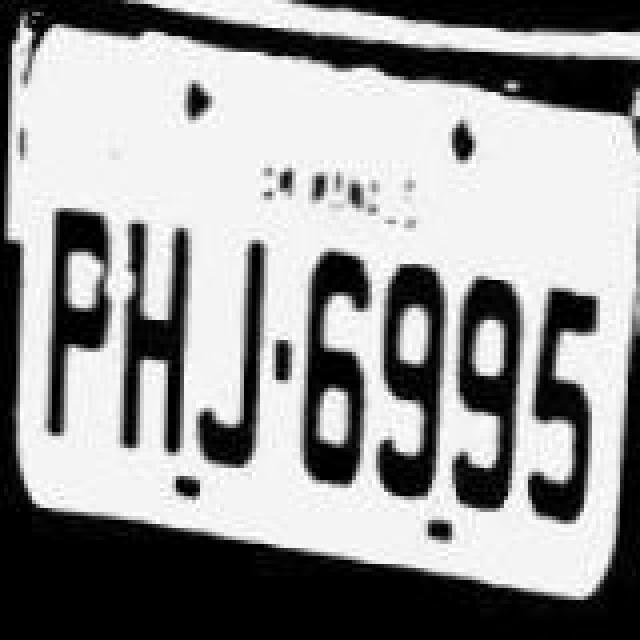5: (520, 270, 600, 538)
6: (294, 234, 370, 510)
9: (444, 256, 524, 524), (370, 236, 446, 508)
H: (112, 198, 196, 462)
J: (188, 218, 276, 478)
P: (42, 190, 122, 458)
